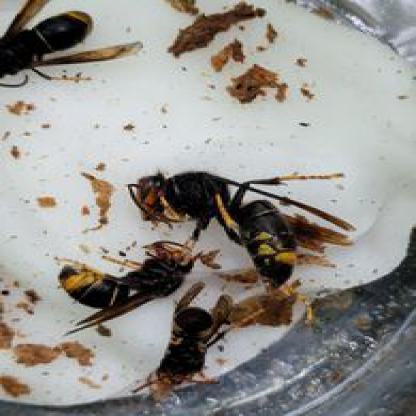Asian Hornet: (127, 159, 368, 251), (33, 232, 211, 331), (0, 0, 154, 91), (138, 281, 240, 398)
